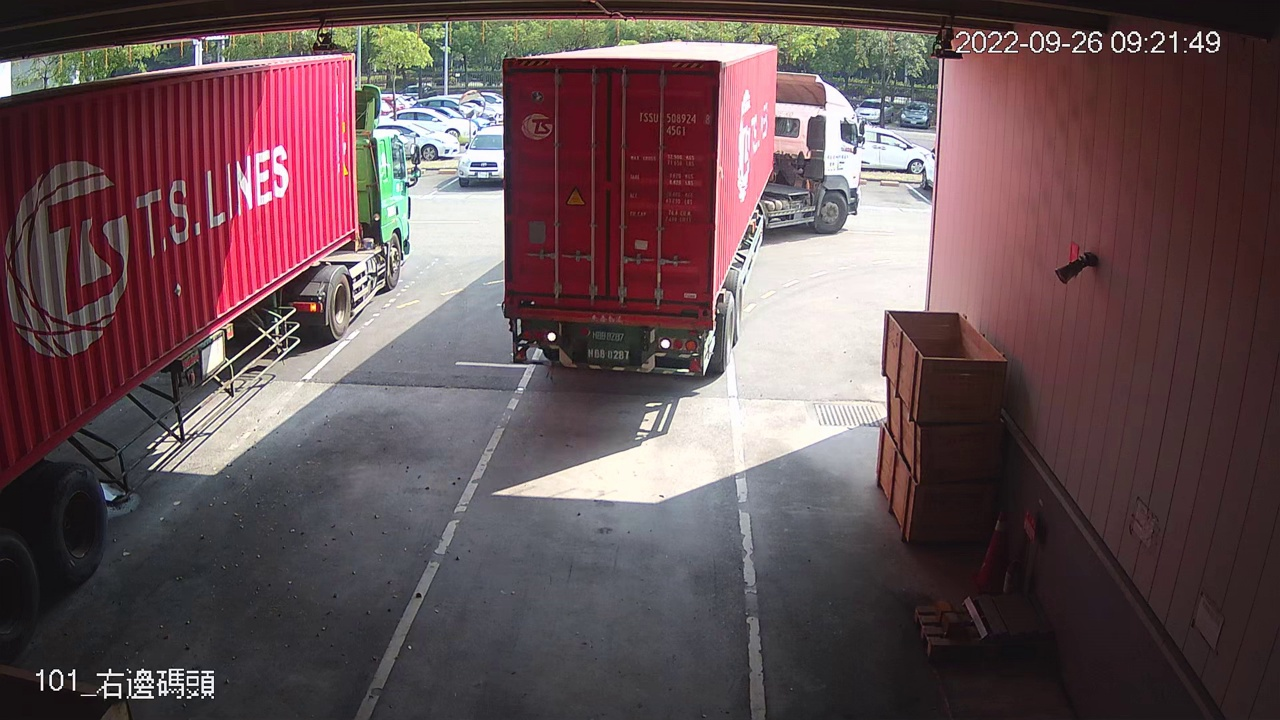container: (629, 104, 714, 140)
